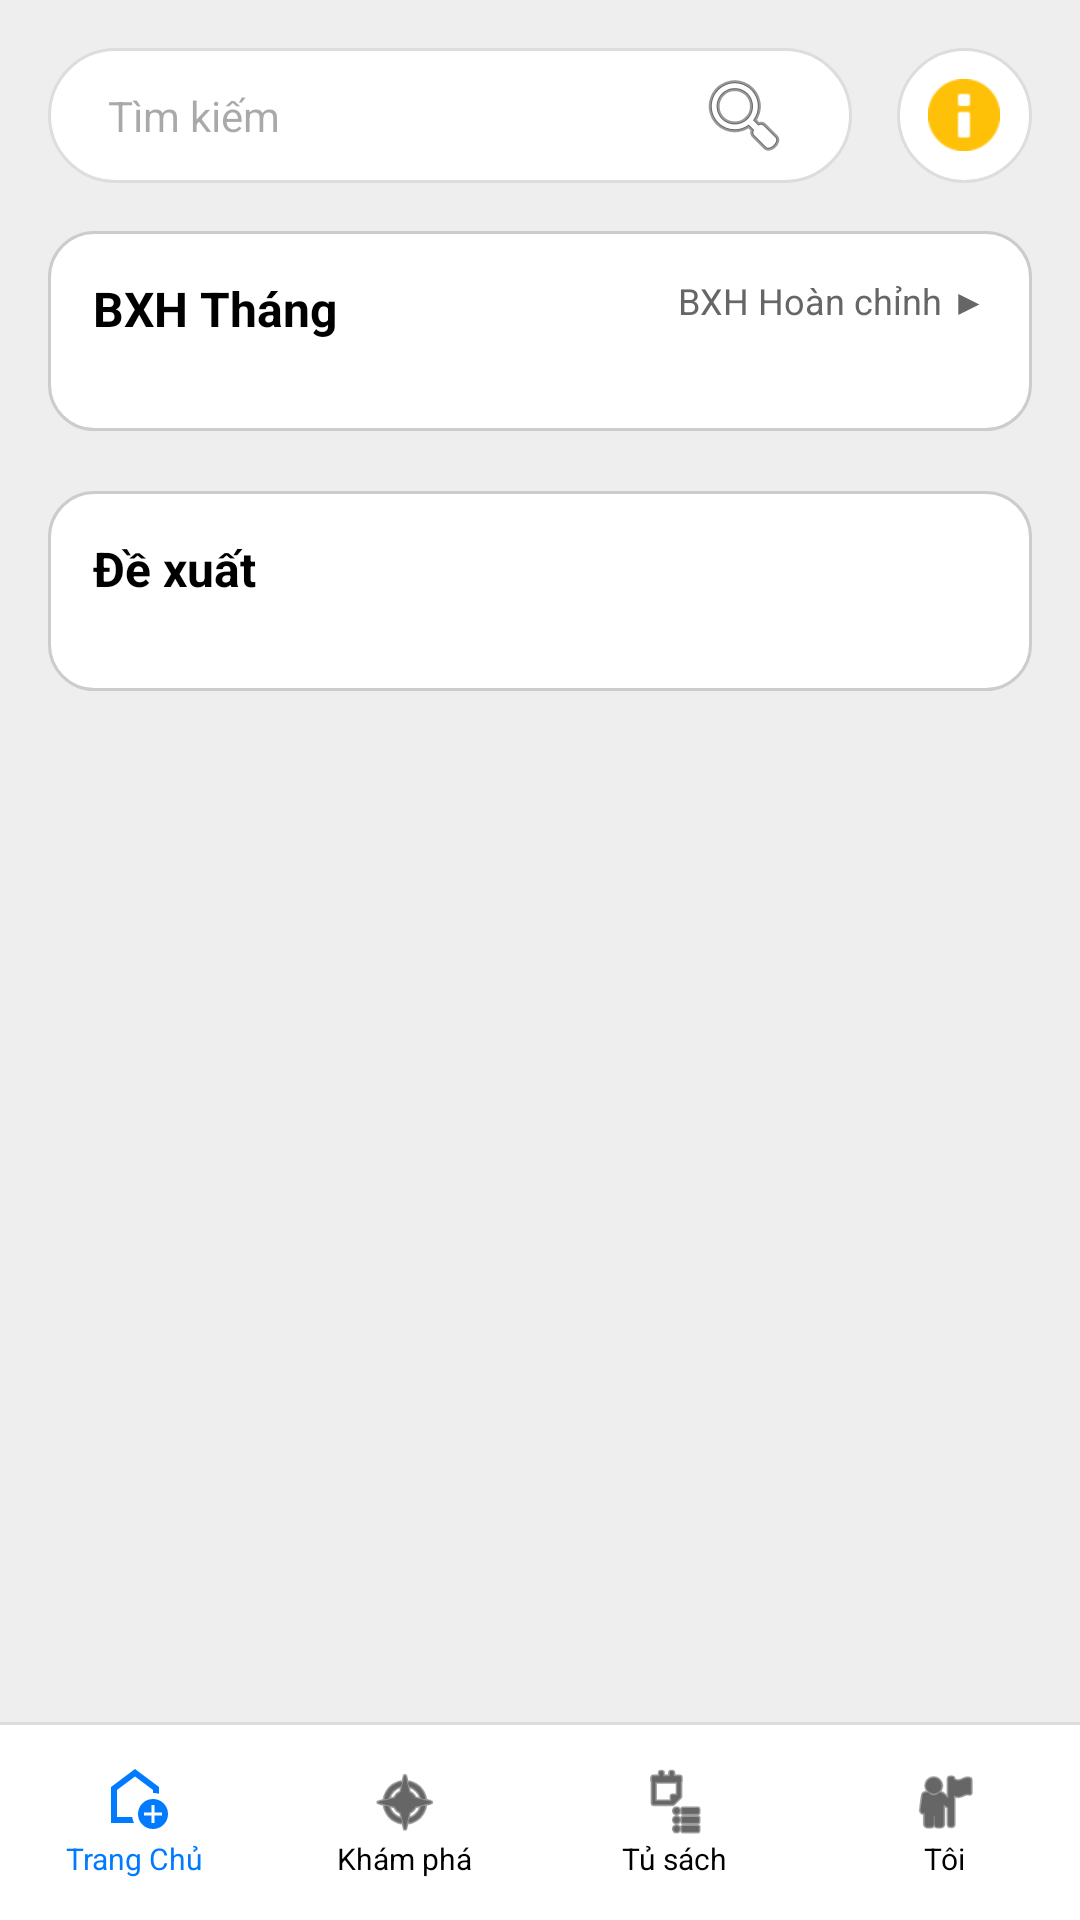

Icon click points for this 1080px×1920px phone screenshot, format (x=x, y=y):
agenda: (x=675, y=1802)
compass: (x=404, y=1802)
info: (x=964, y=115)
myplaces: (x=946, y=1802)
